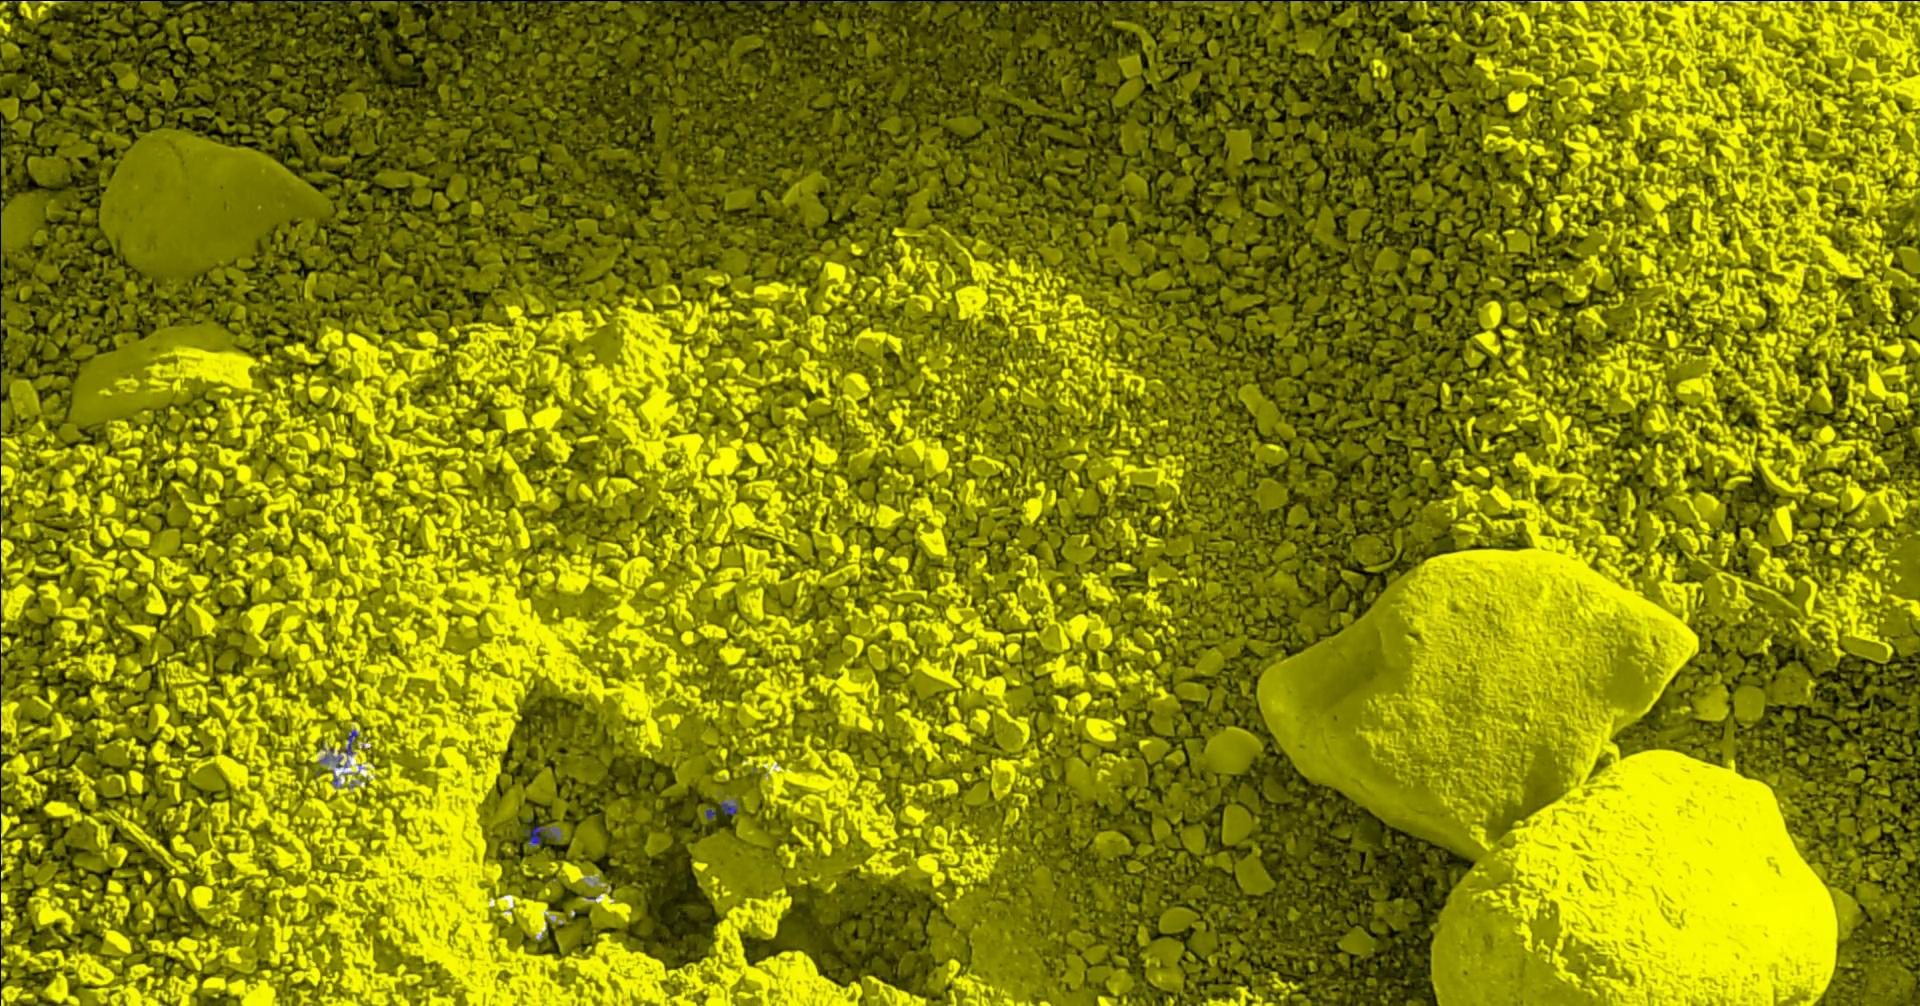ant: (526, 826, 557, 846), (342, 730, 359, 754), (723, 801, 739, 815), (1053, 0, 1117, 3)
